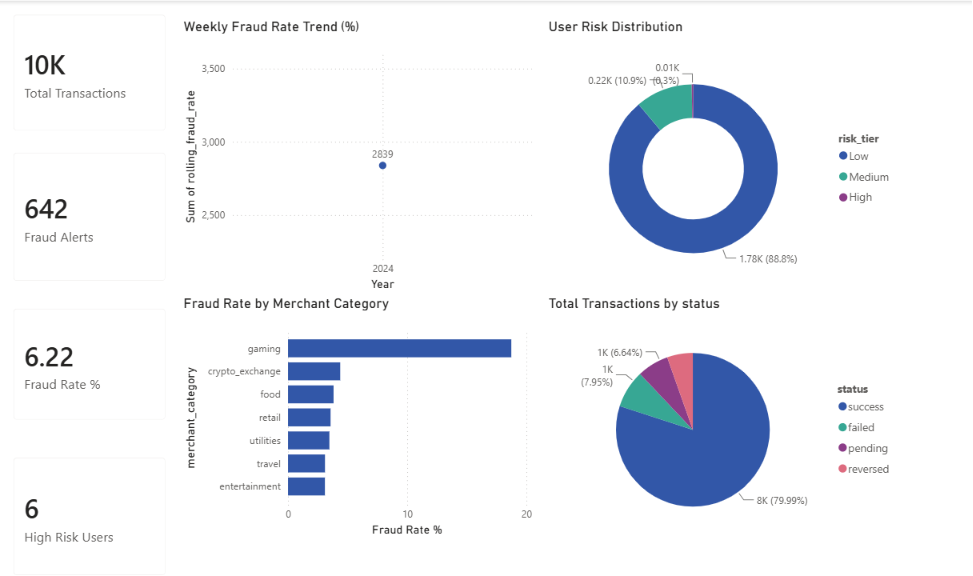

The page's visual inventory and layout, read from the dashboard file:
{"tool":"powerbi","page":{"name":"Executive Overview","canvas":[1280,720],"ordinal":0},"visuals":[{"type":"cardVisual","fields":{"Data":["transactions_enriched.Total Transactions"]},"box":[2,0,220,176.7],"z":0},{"type":"cardVisual","fields":{"Data":["transactions_enriched.Fraud Alerts"]},"box":[2,168.3,220,191.7],"z":1000},{"type":"cardVisual","fields":{"Data":["transactions_enriched.Fraud Rate %"]},"box":[2,360,220,170],"z":2000},{"type":"cardVisual","fields":{"Data":["users_risk_scored.High Risk Users"]},"box":[2,541.7,220,178.3],"z":3000},{"type":"lineChart","title":"Weekly Fraud Rate Trend (%)","fields":{"Category":["daily_kpis.date.Variation.Date Hierarchy.Year","daily_kpis.date.Variation.Date Hierarchy.Quarter","daily_kpis.date.Variation.Date Hierarchy.Month","daily_kpis.date.Variation.Date Hierarchy.Day"],"Y":["Sum(daily_kpis.rolling_fraud_rate)"]},"box":[222.5,21.2,436.2,338.8],"z":4000},{"type":"clusteredBarChart","title":"Fraud Rate by Merchant Category","fields":{"Category":["transactions_enriched.merchant_category"],"Y":["transactions_enriched.Fraud Rate %"]},"box":[222.5,360,436.2,300],"z":5000},{"type":"donutChart","title":"User Risk Distribution","fields":{"Category":["users_risk_scored.risk_tier"],"Y":["CountNonNull(users_risk_scored.user_id)"]},"box":[669,21,436,339],"z":6000},{"type":"pieChart","fields":{"Category":["transactions_enriched.status"],"Y":["transactions_enriched.Total Transactions"]},"box":[669,360,436,300],"z":7000}]}

Visuals, with their boxes on the page's 1280x720 design canvas (x1, y1, x2, y2). These are canvas units, not pixel positions in the 973x576 screenshot, which may show the page scaled, cropped or inside an application window:
cardVisual - transactions_enriched.Total Transactions: BBox(2, 0, 222, 177)
cardVisual - transactions_enriched.Fraud Alerts: BBox(2, 168, 222, 360)
cardVisual - transactions_enriched.Fraud Rate %: BBox(2, 360, 222, 530)
cardVisual - users_risk_scored.High Risk Users: BBox(2, 542, 222, 720)
"Weekly Fraud Rate Trend (%)" lineChart: BBox(222, 21, 659, 360)
"Fraud Rate by Merchant Category" clusteredBarChart: BBox(222, 360, 659, 660)
"User Risk Distribution" donutChart: BBox(669, 21, 1105, 360)
pieChart - transactions_enriched.status x transactions_enriched.Total Transactions: BBox(669, 360, 1105, 660)
